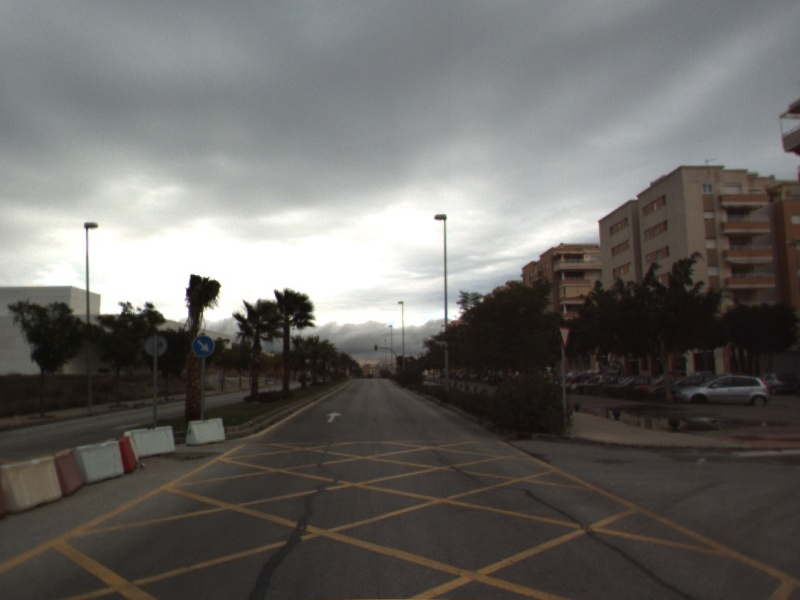STRAIGHT: (324, 410, 344, 424)
